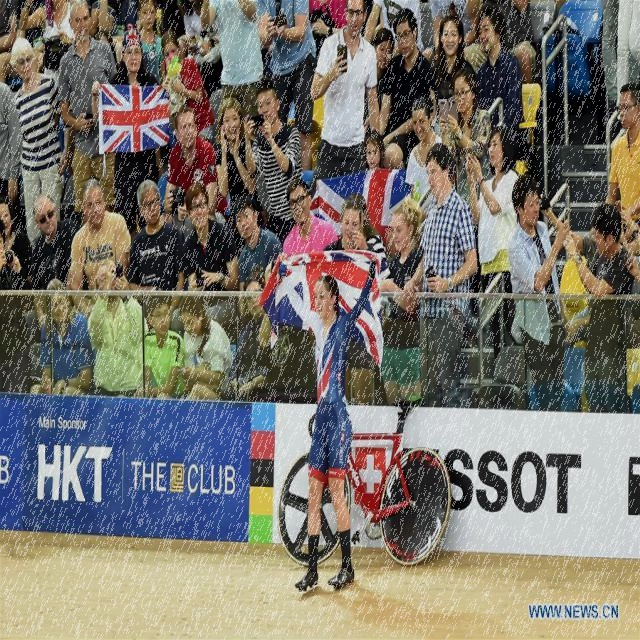pessoa: (269, 248, 392, 598), (535, 190, 636, 414), (402, 143, 481, 410), (89, 26, 172, 236), (506, 171, 572, 413), (562, 199, 636, 399), (10, 36, 74, 252), (464, 124, 520, 366), (58, 0, 119, 222), (309, 0, 382, 180), (321, 192, 377, 408), (168, 180, 240, 342), (374, 194, 426, 410), (243, 75, 303, 249), (376, 7, 439, 172), (198, 0, 266, 140), (68, 176, 132, 321), (474, 1, 531, 162), (86, 258, 150, 400), (123, 177, 187, 318), (348, 191, 390, 405), (436, 65, 494, 216), (23, 191, 79, 347), (254, 0, 318, 136), (258, 256, 320, 396), (158, 104, 220, 242), (230, 192, 285, 336), (29, 276, 94, 396), (217, 271, 273, 403), (462, 0, 538, 84), (160, 27, 214, 144), (131, 296, 190, 400), (176, 296, 234, 400), (0, 215, 33, 394), (604, 80, 640, 244), (134, 0, 167, 178), (428, 0, 476, 122), (213, 96, 260, 215), (428, 10, 479, 119), (21, 0, 79, 90), (0, 78, 24, 290), (585, 0, 639, 94), (281, 176, 339, 258), (403, 96, 443, 212), (362, 26, 396, 136), (362, 0, 425, 56), (0, 192, 35, 280), (324, 198, 376, 253), (616, 194, 640, 294), (94, 29, 120, 74), (90, 0, 138, 24), (362, 127, 387, 171), (160, 0, 182, 26)
